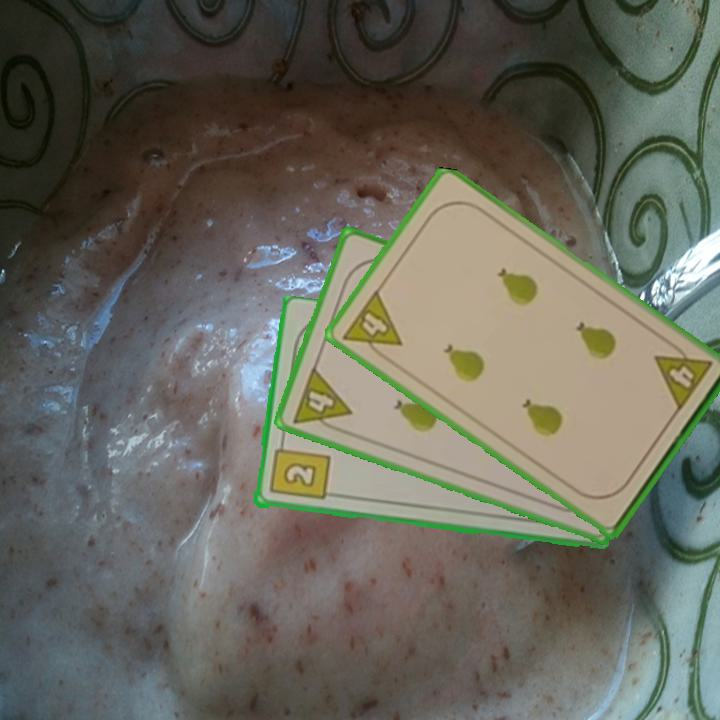2b: (266, 436, 332, 503)
4p: (339, 286, 405, 366), (650, 337, 715, 415), (288, 363, 355, 437)
